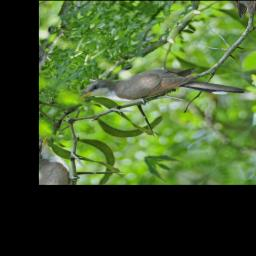Cuckoo: (77, 34, 247, 154)
